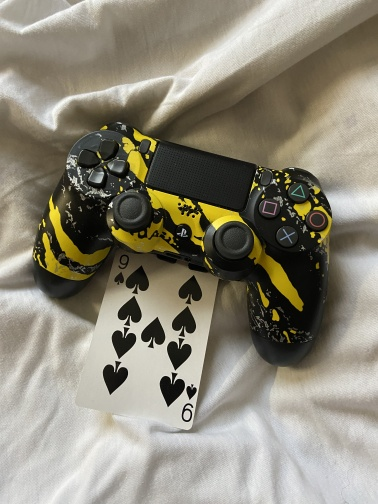nine: (74, 244, 228, 432)
